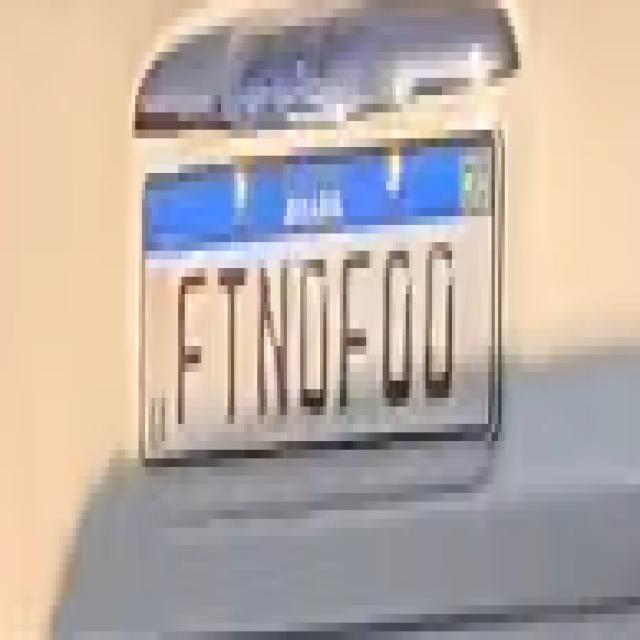Placa_mercosul_carro: (141, 128, 503, 463)
